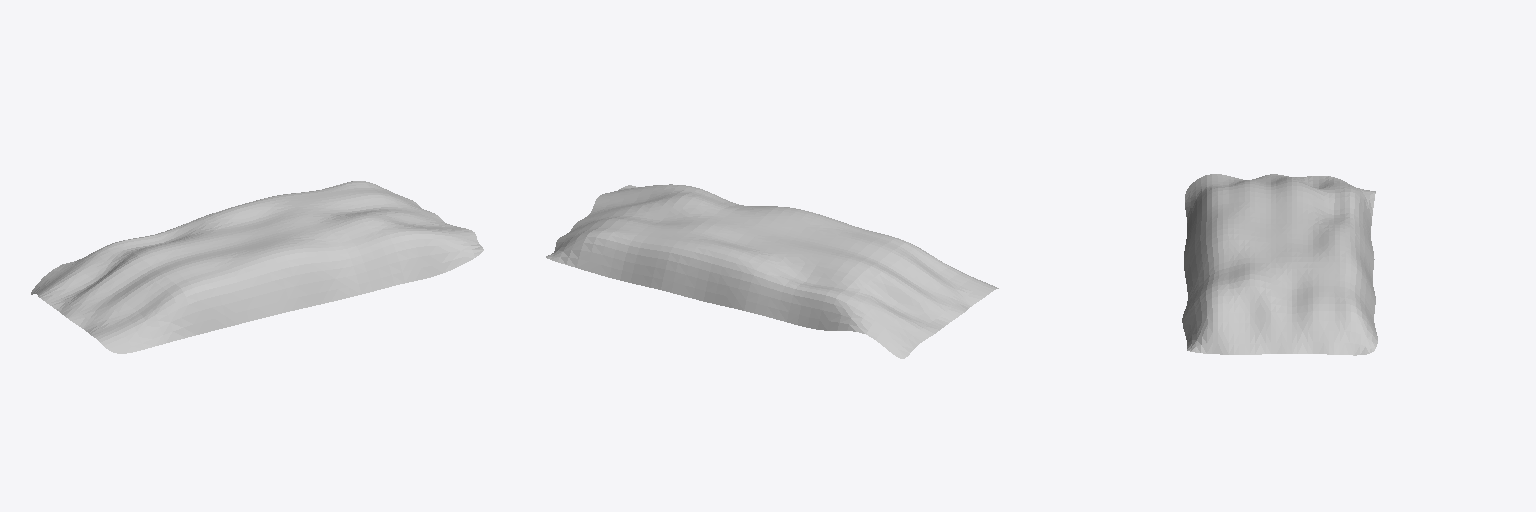
The model's file is lighttestroomGrid.obj.
The picture shows the model from 3 angles: view 1: azimuth 30°, elevation 25°; view 2: azimuth 150°, elevation 25°; view 3: azimuth 270°, elevation 25°; orthographic projection.
Visible parts, largest first — view 1: Grid; view 2: Grid; view 3: Grid.
Part boxes in pixels (x1,y1,x2,y2): Grid: (31, 181, 483, 353); Grid: (546, 184, 998, 358); Grid: (1182, 174, 1377, 355).
Bounding box in the file's own units: 79.43 × 10.35 × 34.92.